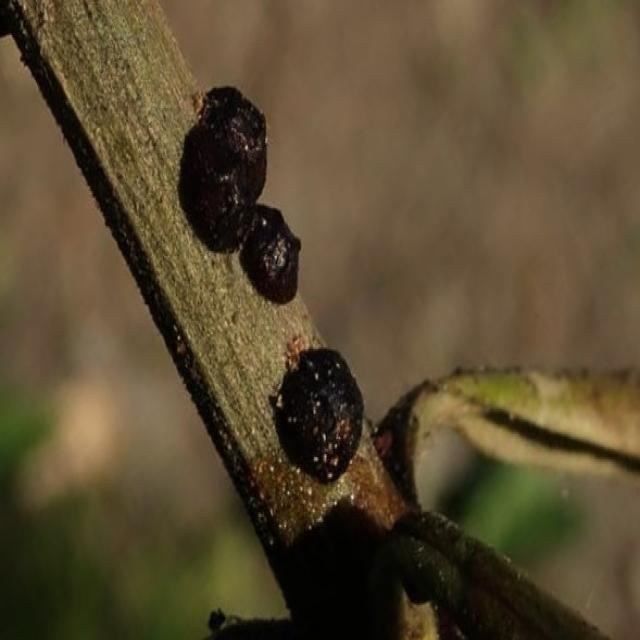BlackScale: (180, 86, 300, 304), (270, 348, 362, 470)
